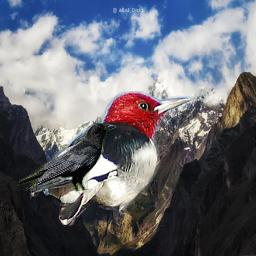Crow: (17, 123, 117, 193)
Woodpecker: (30, 91, 195, 228)
